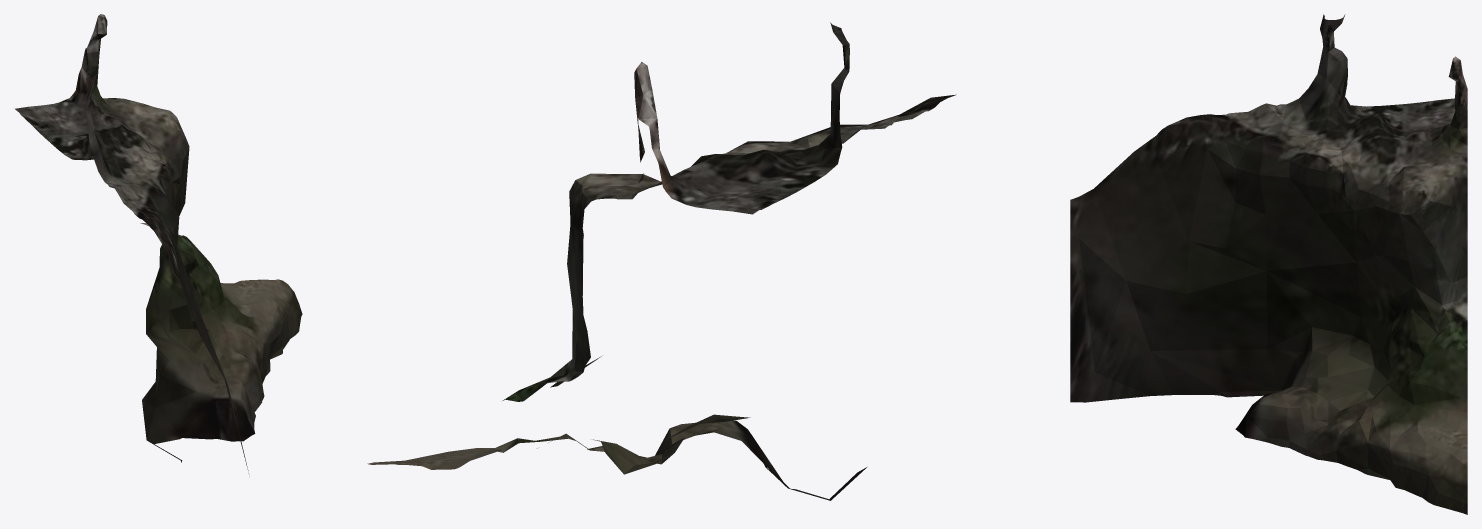
The picture shows the model from 3 angles, left to right: view 1: azimuth 30°, elevation 25°; view 2: azimuth 150°, elevation 25°; view 3: azimuth 270°, elevation 25°; orthographic projection. The views are drawn at different scales.
Bounding box in the file's own units: 0.7046 × 0.8374 × 0.8373.
2 materials, 2 textured.
